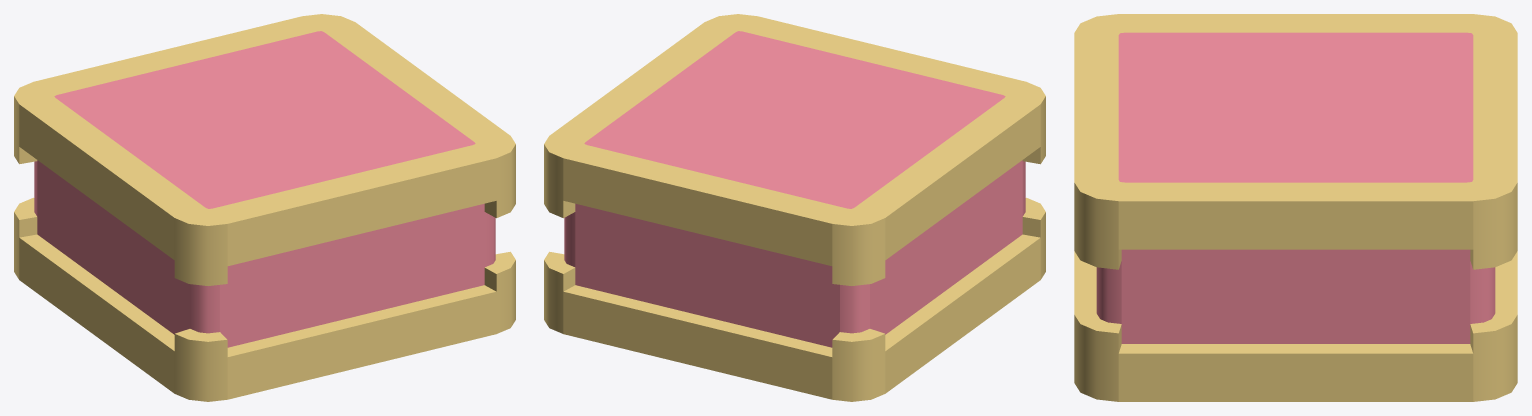
3 renders of one model, left to right at view 1: azimuth 30°, elevation 25°; view 2: azimuth 150°, elevation 25°; view 3: azimuth 270°, elevation 25°, orthographic. The views are drawn at different scales.
Visible parts, largest first — view 1: blockMovingRed; view 2: blockMovingRed; view 3: blockMovingRed.
Part boxes in pixels (x1,y1,x2,y2): blockMovingRed: (14,14,515,401); blockMovingRed: (544,14,1045,401); blockMovingRed: (1074,14,1517,401).
Bounding box in the file's own units: 1 × 0.5 × 1.
